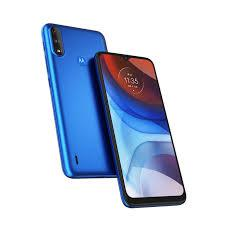Smartphone: (93, 45, 188, 202), (48, 24, 123, 181)
